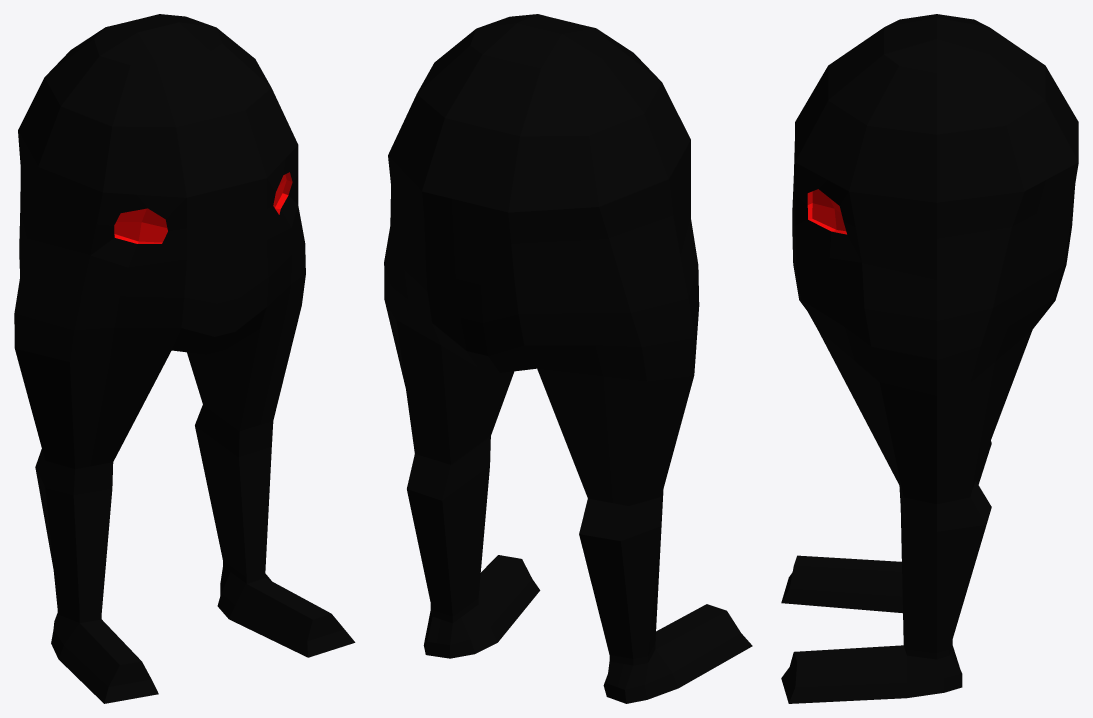
File: MONSTER.fbx
The picture shows the model from 3 angles, left to right: view 1: azimuth 30°, elevation 25°; view 2: azimuth 150°, elevation 25°; view 3: azimuth 270°, elevation 25°; orthographic projection. The views are drawn at different scales.
Visible parts, largest first — view 1: pCylinder1; view 2: pCylinder1; view 3: pCylinder1.
Part boxes in pixels (box(x1,y1,x2,y2)): pCylinder1: box(14, 14, 355, 703); pCylinder1: box(384, 14, 752, 703); pCylinder1: box(781, 14, 1078, 703).
Bounding box in the file's own units: 0.02 × 0.0396 × 0.0174.
Materials: 1 (1 with a texture image).
